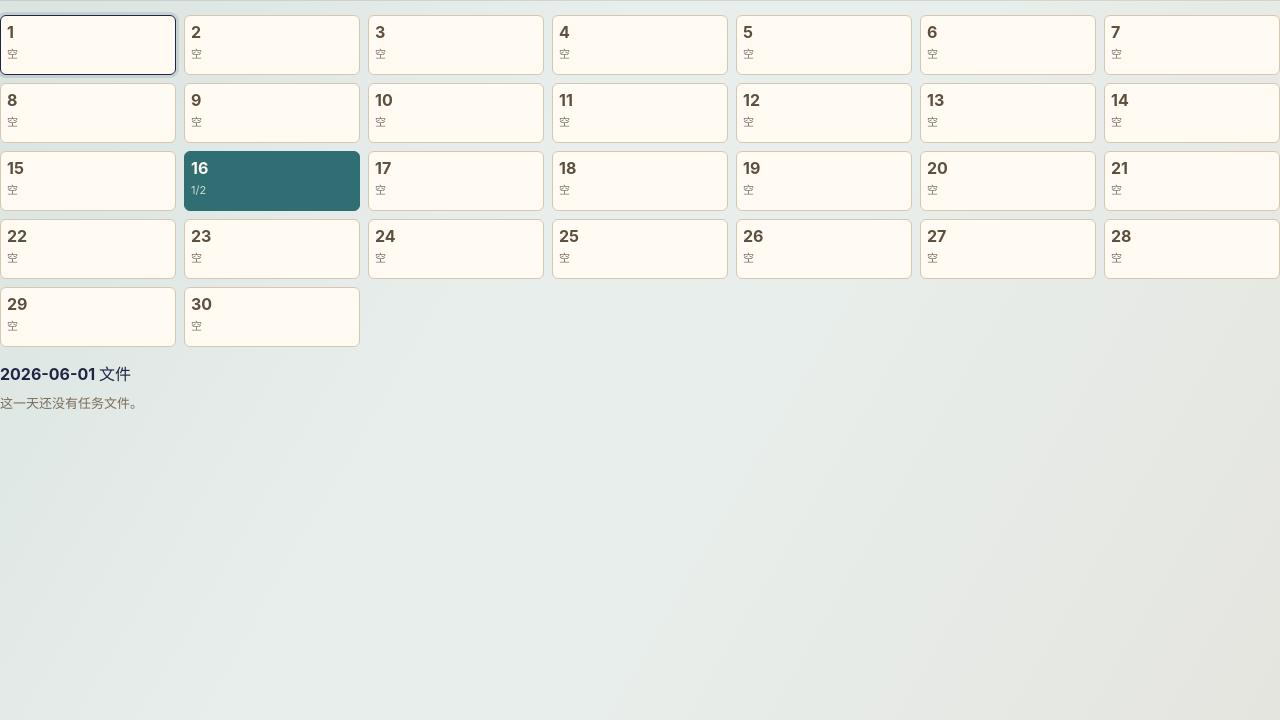
MonthlyFileCabinet › opens the day task list after clicking a day drawer
Click the button named "2026-06-16 完成 1/2". click: (272, 181)
box: [184,151,360,211]
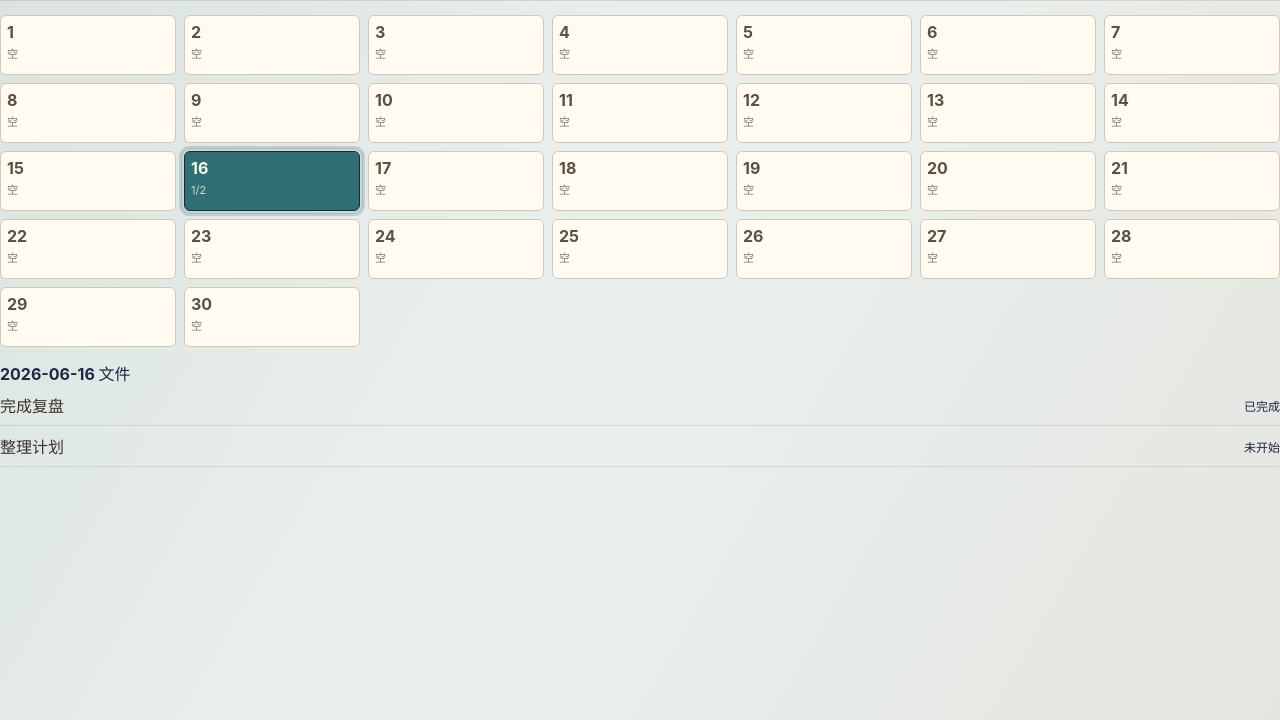
Check: the heading "2026-06-16 文件" is shown, box [0,364,131,384]
Check: the text "完成复盘" is shown, box [0,393,64,417]
Check: the text "整理计划" is shown, box [0,434,64,458]
